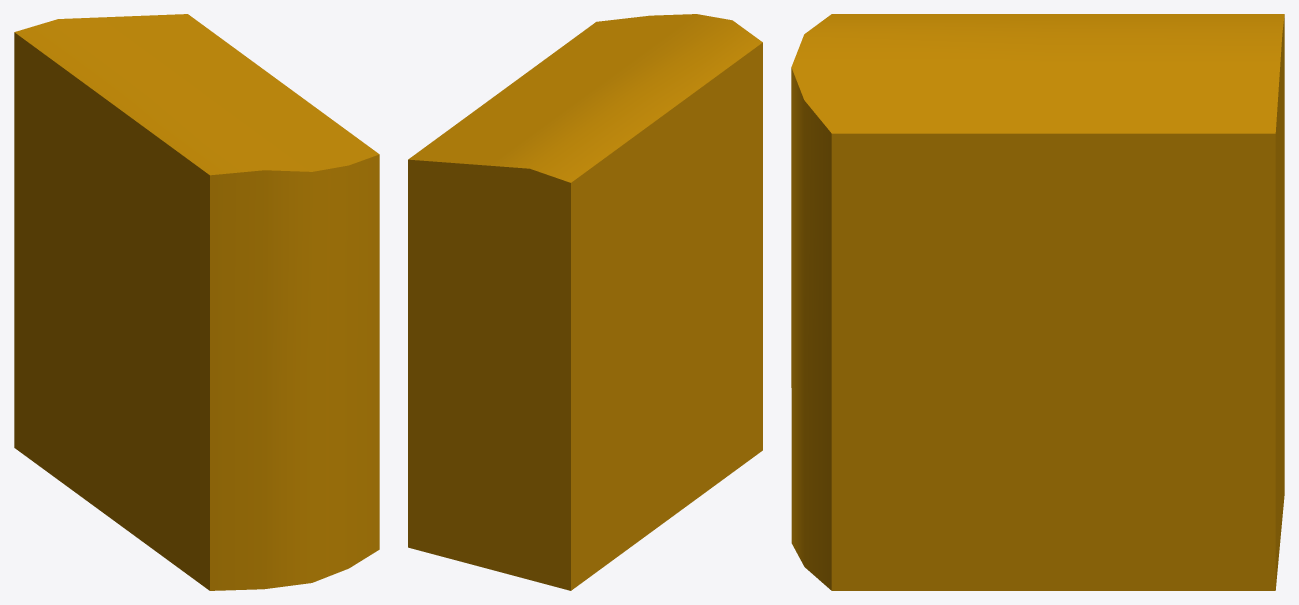
The model's file is SM_ComputerTower.fbx.
3 renders of one model, left to right at view 1: azimuth 30°, elevation 25°; view 2: azimuth 150°, elevation 25°; view 3: azimuth 270°, elevation 25°, orthographic. The views are drawn at different scales.
Parts seen in each view (by area): view 1: SM_ComputerTower; view 2: SM_ComputerTower; view 3: SM_ComputerTower.
Boxes of the visible parts, box(x1,y1,x2,y2) form: SM_ComputerTower: box(14, 14, 379, 590); SM_ComputerTower: box(408, 14, 762, 590); SM_ComputerTower: box(791, 14, 1284, 590).
Bounding box in the file's own units: 25.21 × 59.46 × 54.8.
